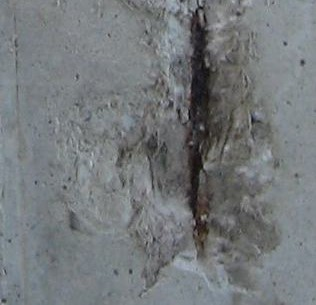Exposed reinforcement: (188, 6, 212, 253)
Spalling: (62, 1, 283, 301)
